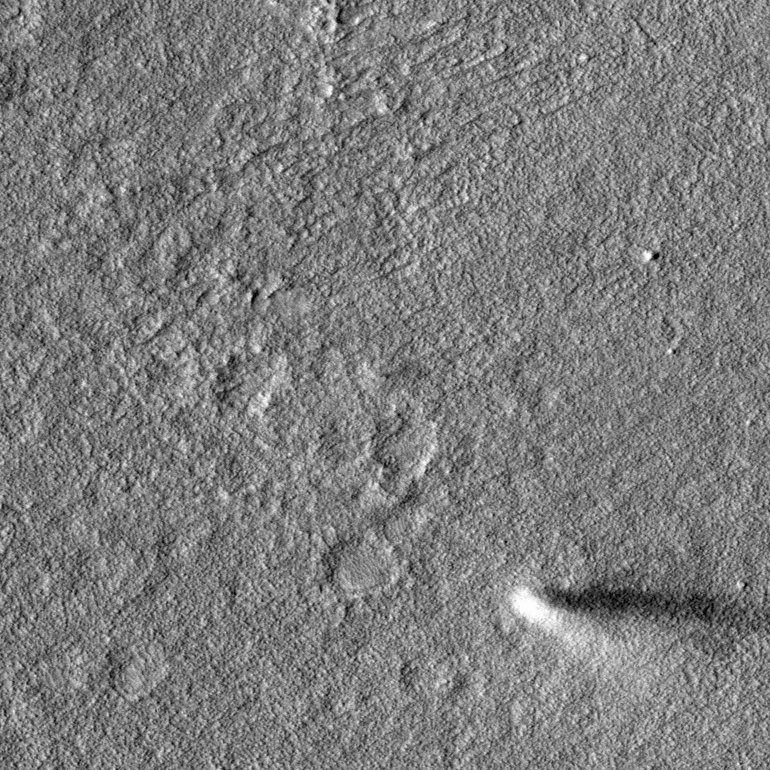dust_devil: (506, 583, 770, 648)
